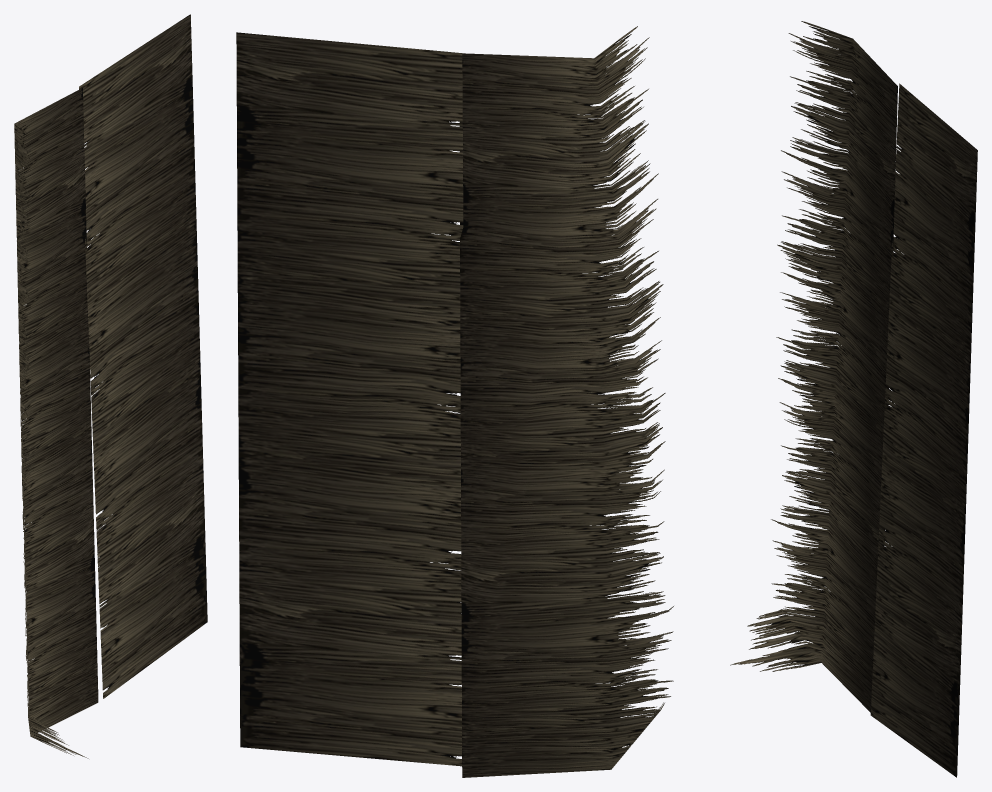
The model's file is MEP_Roof_04_LOD_02.fbx.
3 renders of one model, left to right at view 1: azimuth 30°, elevation 25°; view 2: azimuth 150°, elevation 25°; view 3: azimuth 270°, elevation 25°, orthographic. The views are drawn at different scales.
Visible parts, largest first — view 1: MEP_Roof_04_LOD_02; view 2: MEP_Roof_04_LOD_02; view 3: MEP_Roof_04_LOD_02.
Part boxes in pixels (bbox=[...]): MEP_Roof_04_LOD_02: bbox=[14, 14, 207, 758]; MEP_Roof_04_LOD_02: bbox=[236, 26, 673, 777]; MEP_Roof_04_LOD_02: bbox=[730, 21, 977, 777].
Bounding box in the file's own units: 2.79 × 6.14 × 2.31.
